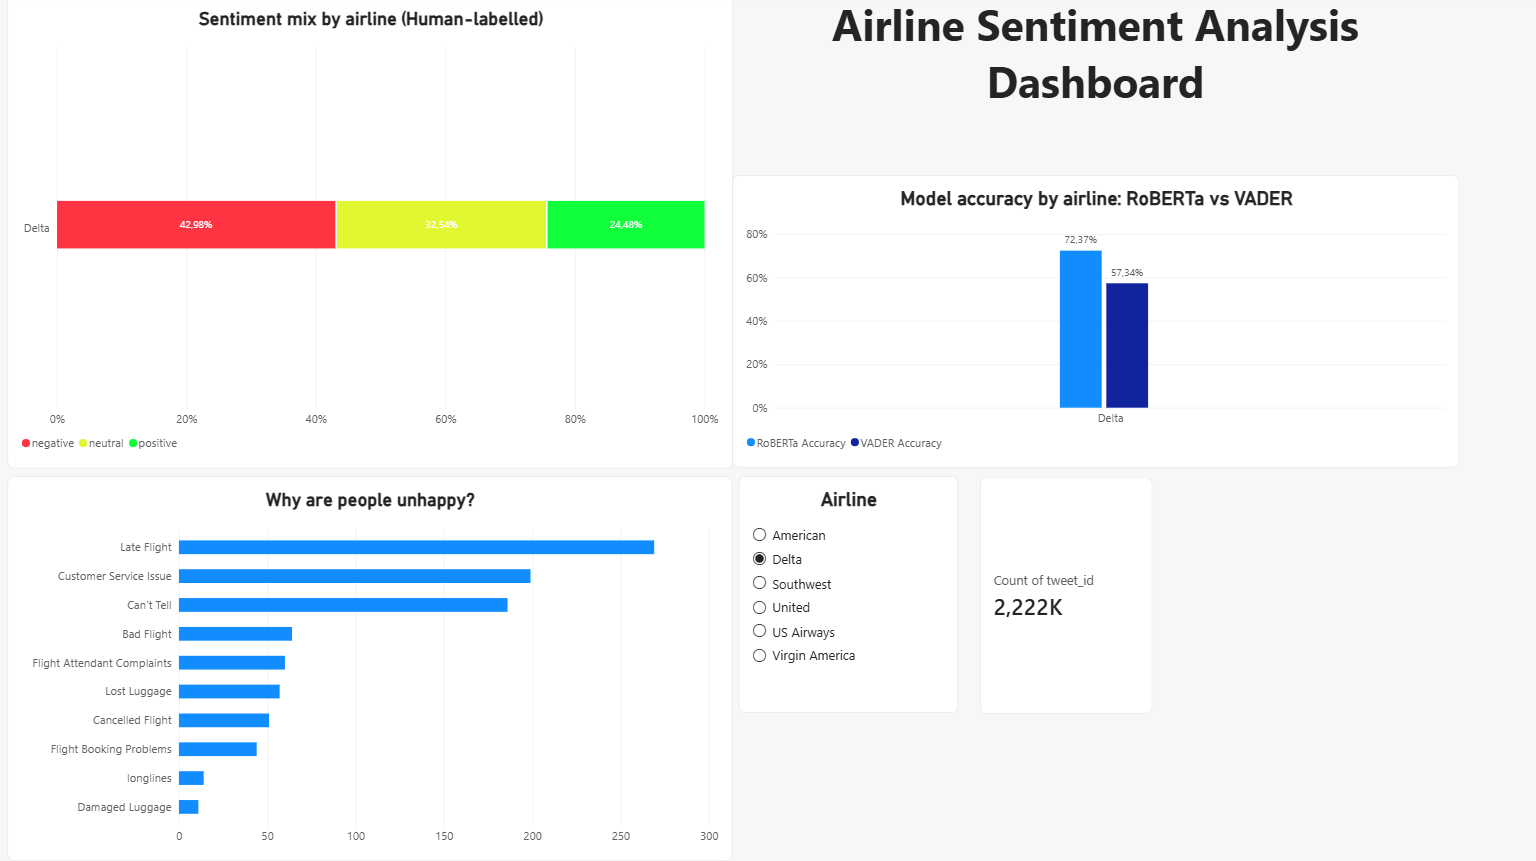

Layout of this report page (visuals, bound fields, positions):
{"tool":"powerbi","page":{"name":"Page 1","canvas":[1920,1080],"ordinal":0},"visuals":[{"type":"hundredPercentStackedBarChart","title":"Sentiment mix by airline (Human-labelled)","fields":{"Category":["dashboard_data.airline"],"Series":["dashboard_data.airline_sentiment"],"Y":["CountNonNull(dashboard_data.tweet_id)"]},"box":[10,0,904.4,590],"z":0},{"type":"barChart","title":"Why are people unhappy?","fields":{"Category":["dashboard_data.negativereason"],"Y":["CountNonNull(dashboard_data.tweet_id)"]},"box":[10,600,904,480],"z":1000},{"type":"listSlicer","title":"Airline","fields":{"Values":["dashboard_data.airline"]},"box":[921.7,600,273.3,295],"z":2000},{"type":"clusteredColumnChart","title":"Model accuracy by airline: RoBERTa vs VADER","fields":{"Category":["dashboard_data.airline"],"Y":["dashboard_data.RoBERTa Accuracy","dashboard_data.VADER Accuracy"]},"box":[913.3,225,906.7,365],"z":3000},{"type":"cardVisual","fields":{"Data":["CountNonNull(dashboard_data.tweet_id)"]},"box":[1221.7,601.7,215,295],"z":4000},{"type":"textbox","box":[914,0,905.2,193.6],"z":4001}]}

Visuals, with their boxes in screenshot pixels (x1, y1, x2, y2), scaled from the page's 1920x1080 canvas onto the 1536x861 screenshot:
"Sentiment mix by airline (Human-labelled)" hundredPercentStackedBarChart: rect(8, 0, 732, 470)
"Why are people unhappy?" barChart: rect(8, 478, 731, 860)
"Airline" listSlicer: rect(737, 478, 956, 714)
"Model accuracy by airline: RoBERTa vs VADER" clusteredColumnChart: rect(731, 179, 1456, 470)
cardVisual - CountNonNull(dashboard_data.tweet_id): rect(977, 480, 1149, 715)
textbox: rect(731, 0, 1455, 154)
